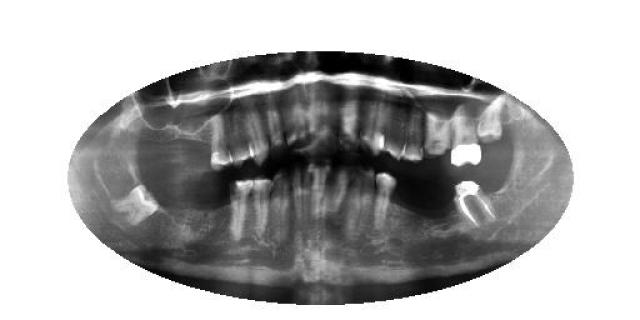Cavity: (447, 178, 498, 228), (421, 110, 449, 162)
Fillings: (450, 112, 482, 166)
Implant: (446, 178, 496, 228)
Restorations: (110, 185, 160, 229), (476, 102, 504, 144)
